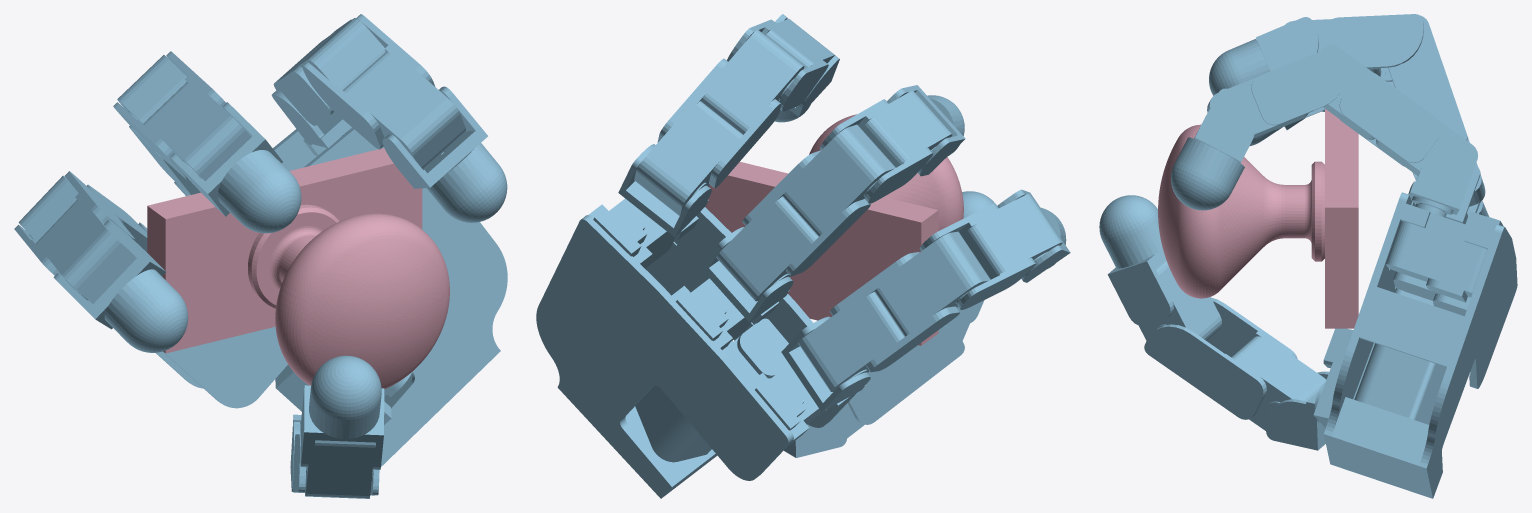
The picture shows the model from 3 angles, left to right: view 1: azimuth 30°, elevation 25°; view 2: azimuth 150°, elevation 25°; view 3: azimuth 270°, elevation 25°; orthographic projection. The views are drawn at different scales.
Parts seen in each view (by area): view 1: world, door_knob.stl; view 2: world, door_knob.stl; view 3: world, door_knob.stl.
Boxes of the visible parts, x1,y1,x2,y2 form: world: [14, 14, 507, 498]; door_knob.stl: [147, 148, 449, 389]; world: [536, 14, 1070, 498]; door_knob.stl: [705, 114, 963, 345]; world: [1099, 14, 1517, 498]; door_knob.stl: [1158, 109, 1358, 328].
Size of the model in its own units: 0.1929 by 0.1794 by 0.1564.
